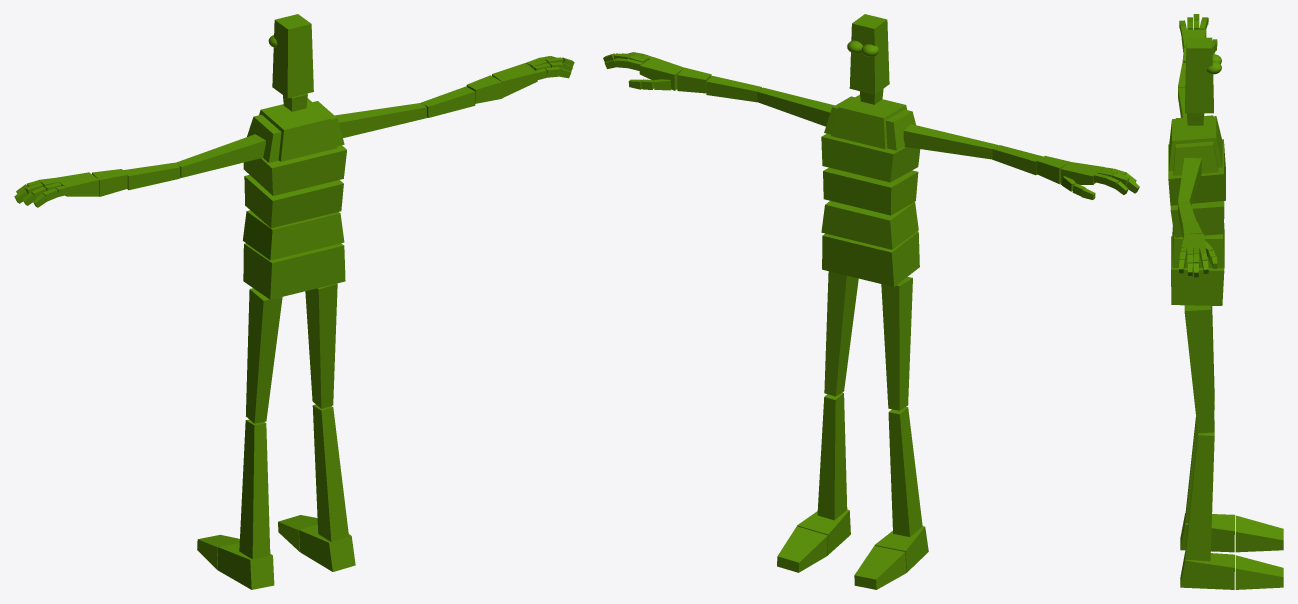
The model's file is Blockman2.fbx.
3 views of the same model, side by side, from view 1: azimuth 30°, elevation 25°; view 2: azimuth 150°, elevation 25°; view 3: azimuth 270°, elevation 25° (orthographic). The views are drawn at different scales.
Visible parts, largest first — view 1: back0, l_shin, l_thigh, r_shin, back2, back3, r_thigh, back4, head, back5, l_bicep, r_bicep (+9 smaller); view 2: back0, l_thigh, l_shin, back2, back3, r_shin, r_thigh, back4, head, back5, l_bicep, l_toe (+10 smaller); view 3: r_thigh, r_shin, head, back0, r_heel, back5, l_toe, back4, r_toe, back3, l_heel, back6 (+9 smaller).
Part boxes in pixels (x1,y1,x2,y2): back0: (243, 243, 345, 299); l_shin: (239, 419, 270, 559); l_thigh: (246, 288, 282, 423); r_shin: (312, 404, 348, 541); back2: (243, 210, 344, 260); back3: (244, 175, 343, 228); r_thigh: (305, 283, 337, 408); back4: (243, 145, 346, 195); head: (272, 14, 313, 98); back5: (259, 98, 337, 161); l_bicep: (176, 134, 265, 177); r_bicep: (334, 103, 426, 137); back0: (822, 231, 919, 286); l_thigh: (881, 277, 912, 410); l_shin: (888, 407, 922, 536); back2: (821, 201, 918, 249); back3: (823, 167, 918, 215); r_shin: (817, 392, 847, 520); r_thigh: (824, 271, 858, 396); back4: (821, 134, 920, 182); head: (849, 14, 889, 94); back5: (831, 94, 906, 149); l_bicep: (903, 124, 998, 159); l_toe: (854, 546, 906, 589); r_thigh: (1184, 305, 1214, 433); r_shin: (1185, 432, 1214, 561); head: (1185, 37, 1213, 113); back0: (1171, 236, 1224, 305); r_heel: (1180, 551, 1234, 589); back5: (1169, 116, 1222, 171); l_toe: (1235, 515, 1283, 552); back4: (1168, 139, 1225, 205); r_toe: (1235, 555, 1283, 589); back3: (1170, 201, 1224, 237); l_heel: (1180, 513, 1234, 552); back6: (1173, 141, 1218, 175).
Bounding box in the file's own units: 193 × 182 × 36.49.
